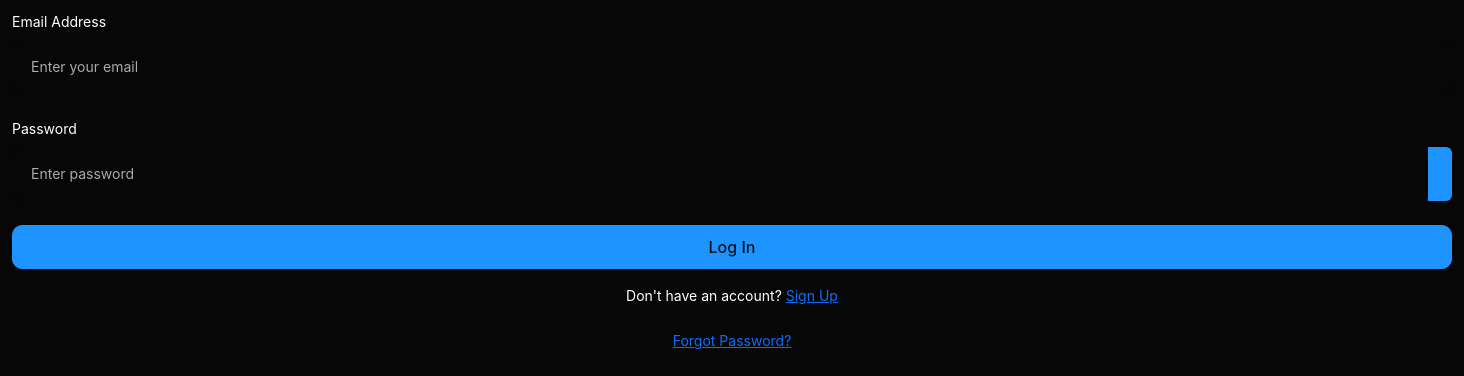
delivery off with no code: it points at the log rather than dead-ending
Type "trader@example.com" into the field with placeholder "Enter your email".
click(732, 67); type("trader@example.com")  # box 12,40 -> 1452,94
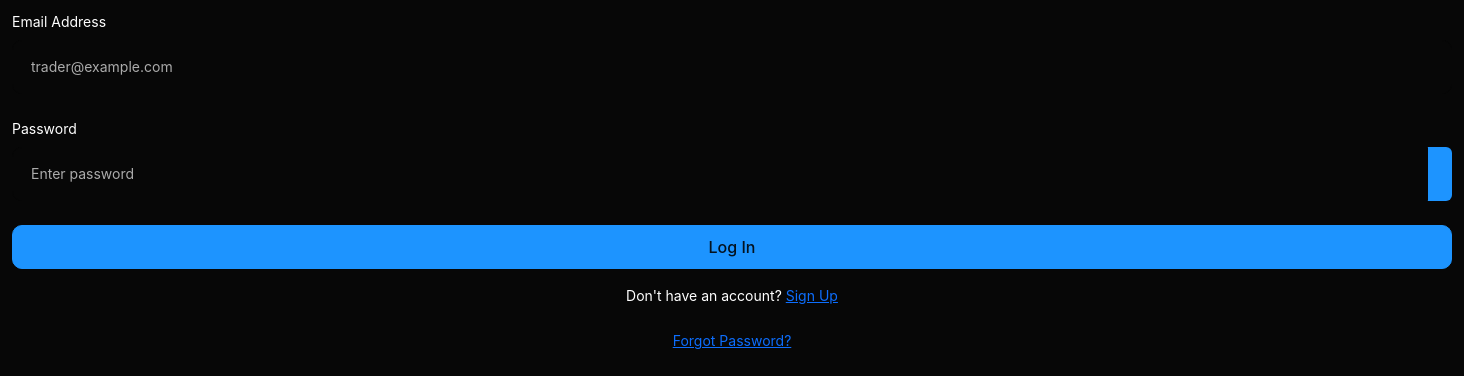
Type "Passw0rd!23" into the password field with placeholder "Enter password".
click(720, 174); type("Passw0rd!23")  # box 12,147 -> 1428,201
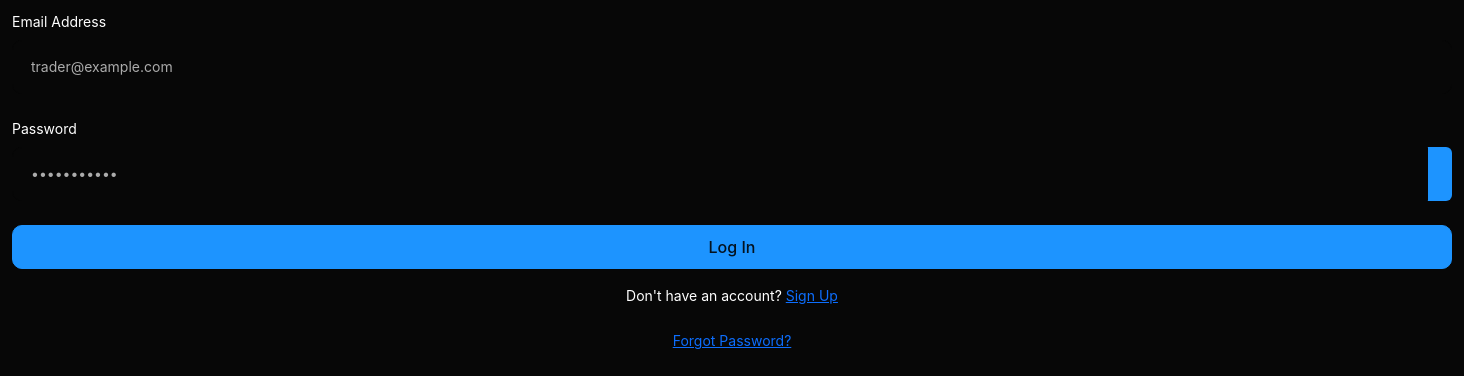
Click the button "Log In".
click(732, 247)  # box 12,225 -> 1452,269
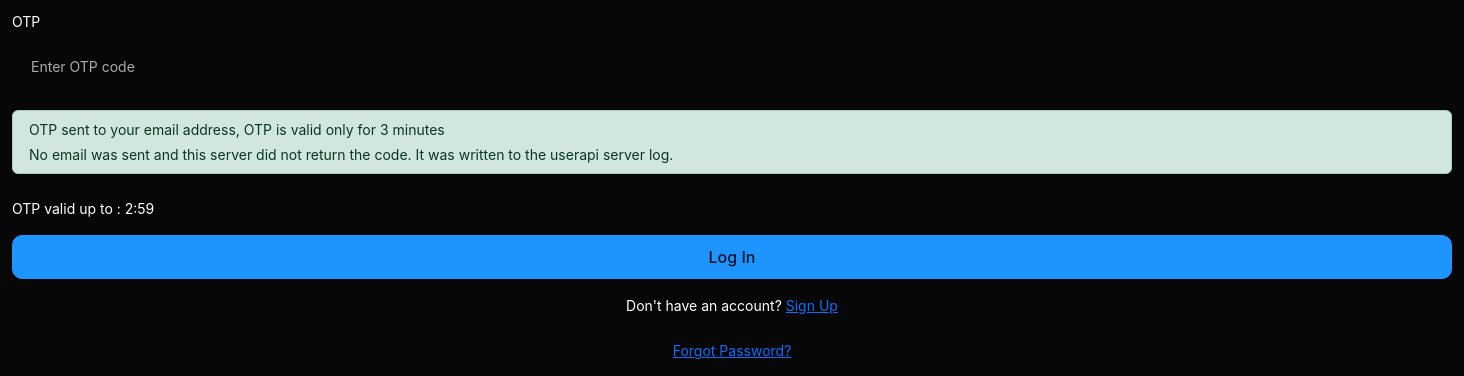
expect the text with test id "login-code-missing" shows "server log": met, box 29,146 -> 673,163
